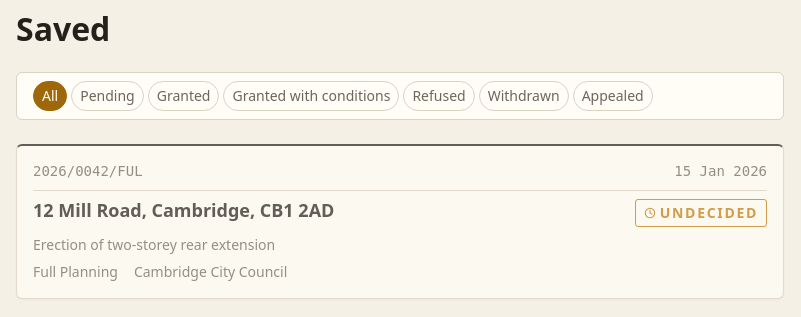
Scenario: SavedApplicationsPage — list rendering › shows the no-matches empty-state when a status filter excludes everything
Expected: the text "2026/0042/FUL" is shown, [33,162,143,182]
Click the button "Granted". click: (184, 96)
box: [148,81,220,111]
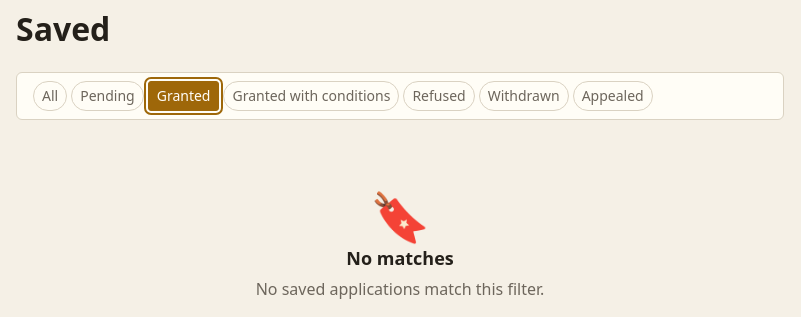
Expected: the text "No saved applications match this filter." is shown, [256,278,544,300]
